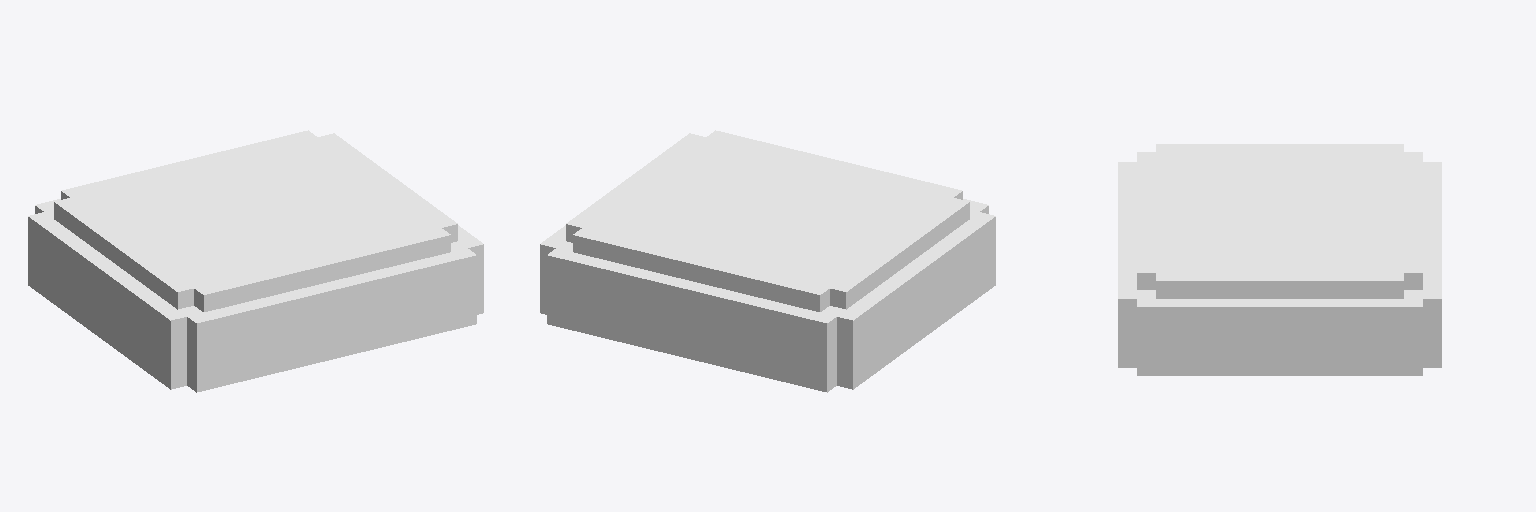
The model's file is block01.obj.
3 views of the same model, side by side, from view 1: azimuth 30°, elevation 25°; view 2: azimuth 150°, elevation 25°; view 3: azimuth 270°, elevation 25° (orthographic).
Size of the model in its own units: 19 by 5 by 17.